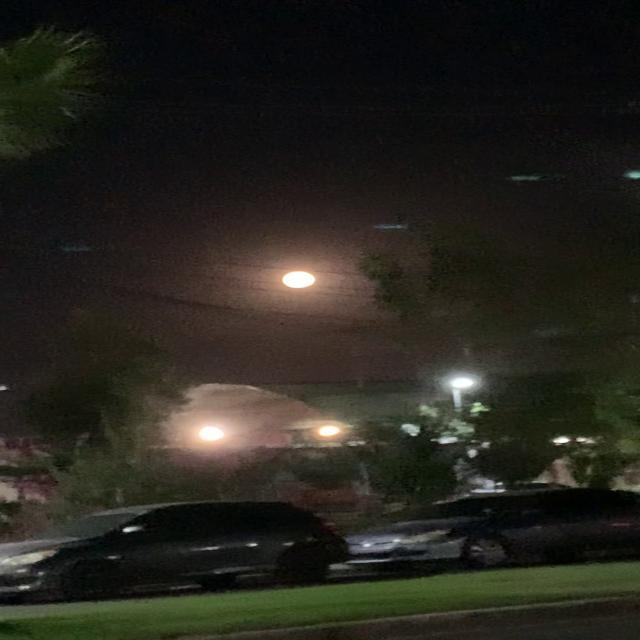moon: (318, 230, 372, 262)
